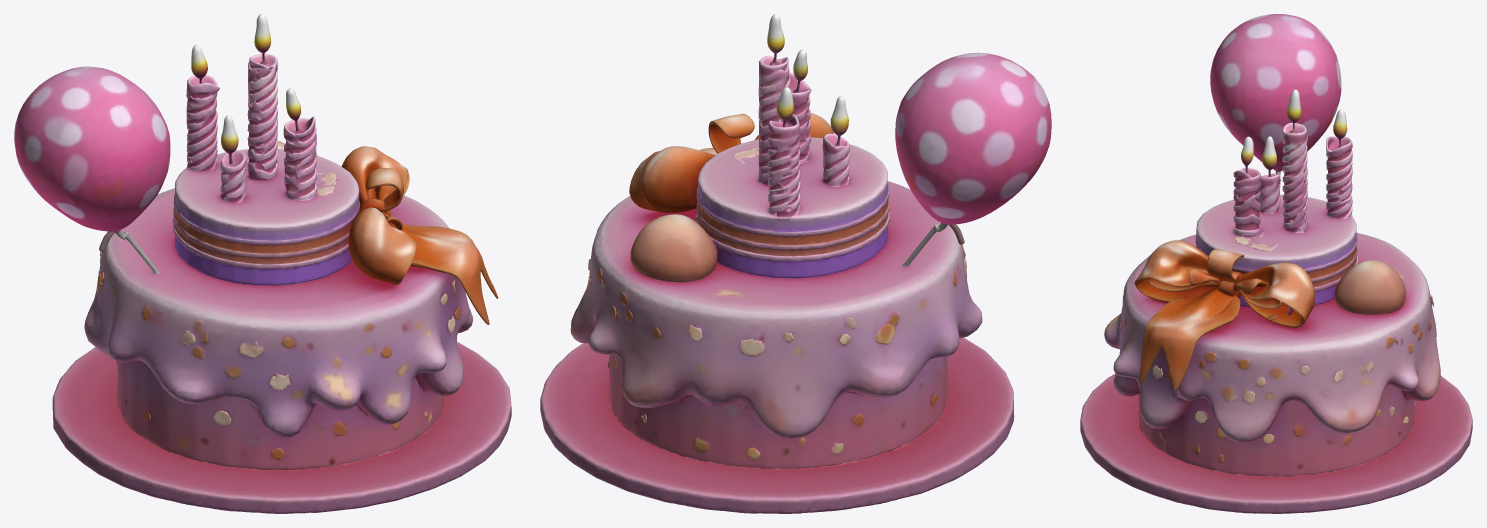
The model's file is cake2.2.glb.
3 views of the same model, side by side, from view 1: azimuth 30°, elevation 25°; view 2: azimuth 150°, elevation 25°; view 3: azimuth 270°, elevation 25° (orthographic). The views are drawn at different scales.
Visible parts, largest first — view 1: world; view 2: world; view 3: world.
Part boxes in pixels (x1,y1,x2,y2): world: (14,14,511,513); world: (540,14,1051,513); world: (1080,14,1472,513).
Bounding box in the file's own units: 1 × 0.8409 × 0.882.
1 material, 1 textured.
